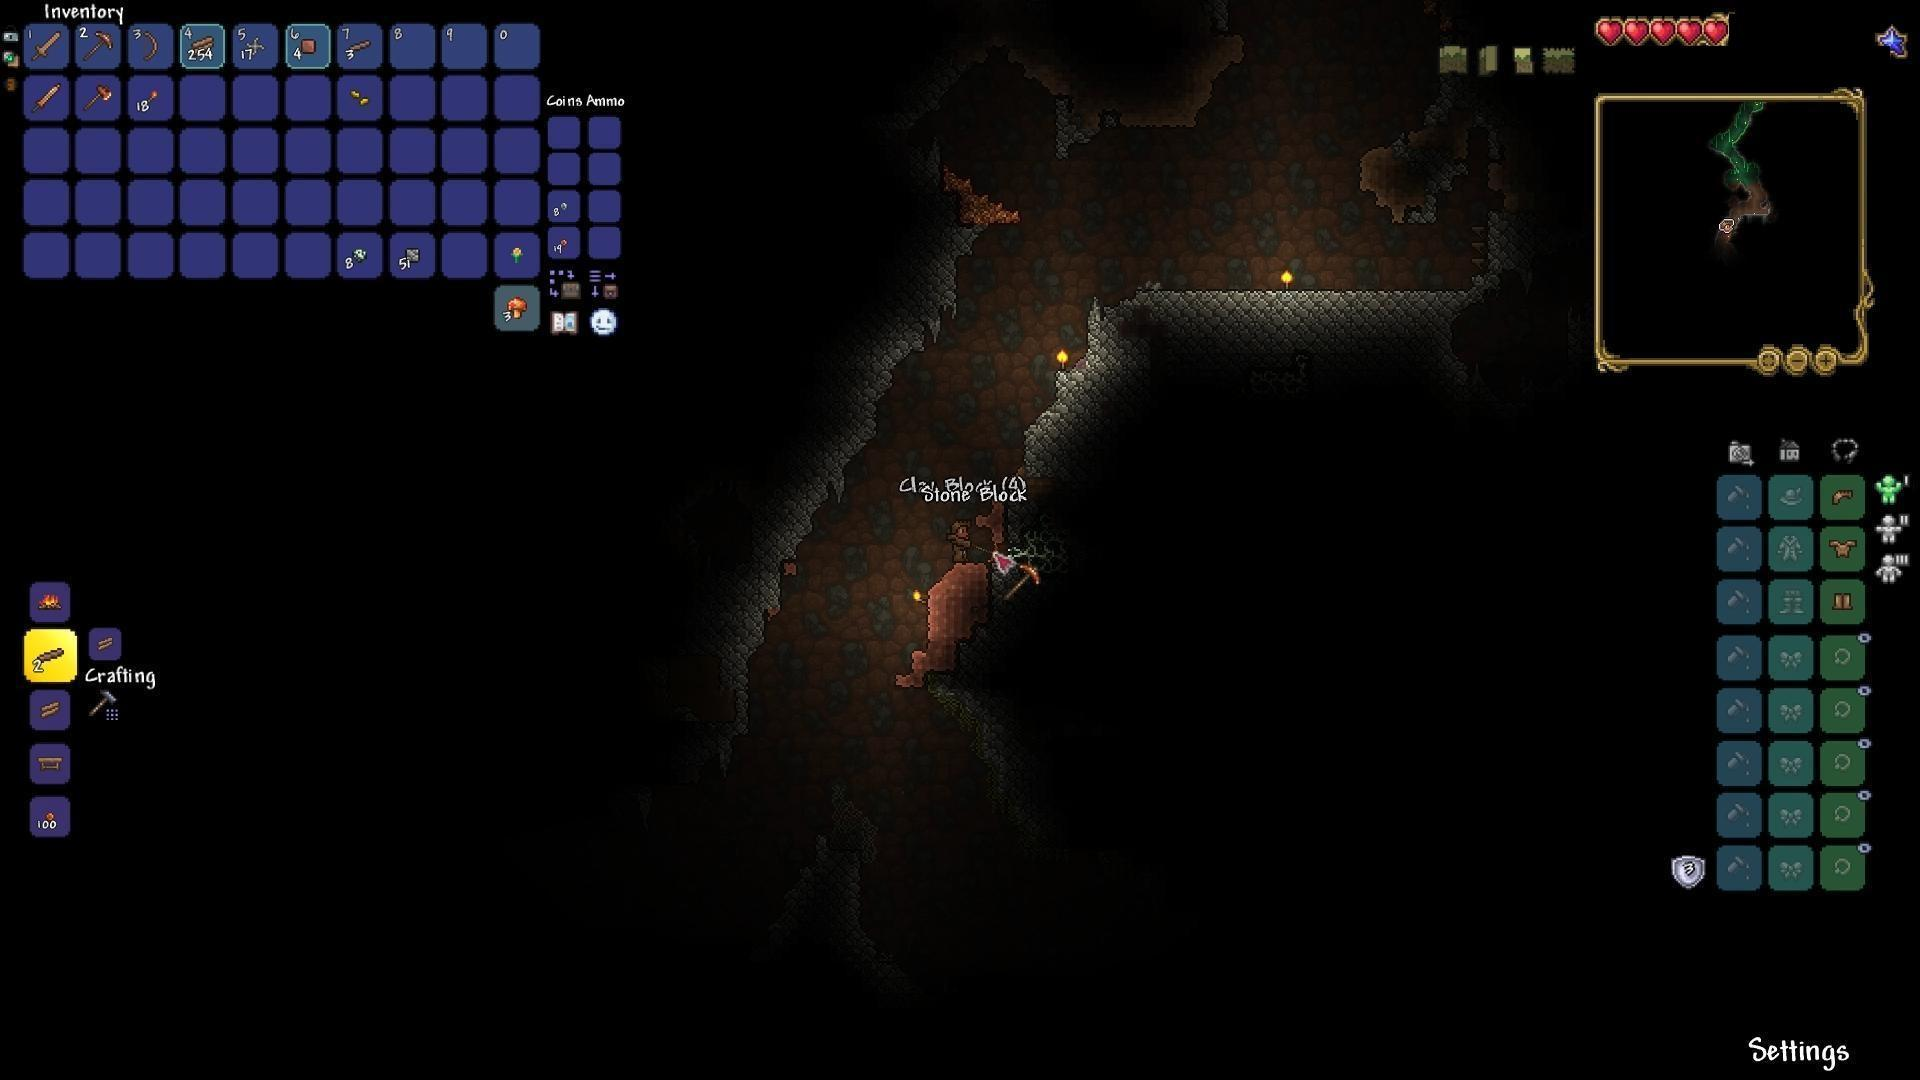heart: (1702, 17, 1733, 51), (1593, 16, 1626, 46), (1676, 15, 1704, 50), (1650, 16, 1676, 49), (1625, 15, 1651, 44)
stone: (1091, 272, 1452, 367), (870, 244, 990, 359), (804, 360, 891, 498), (715, 524, 789, 680), (1018, 336, 1092, 479), (1486, 204, 1516, 285)
